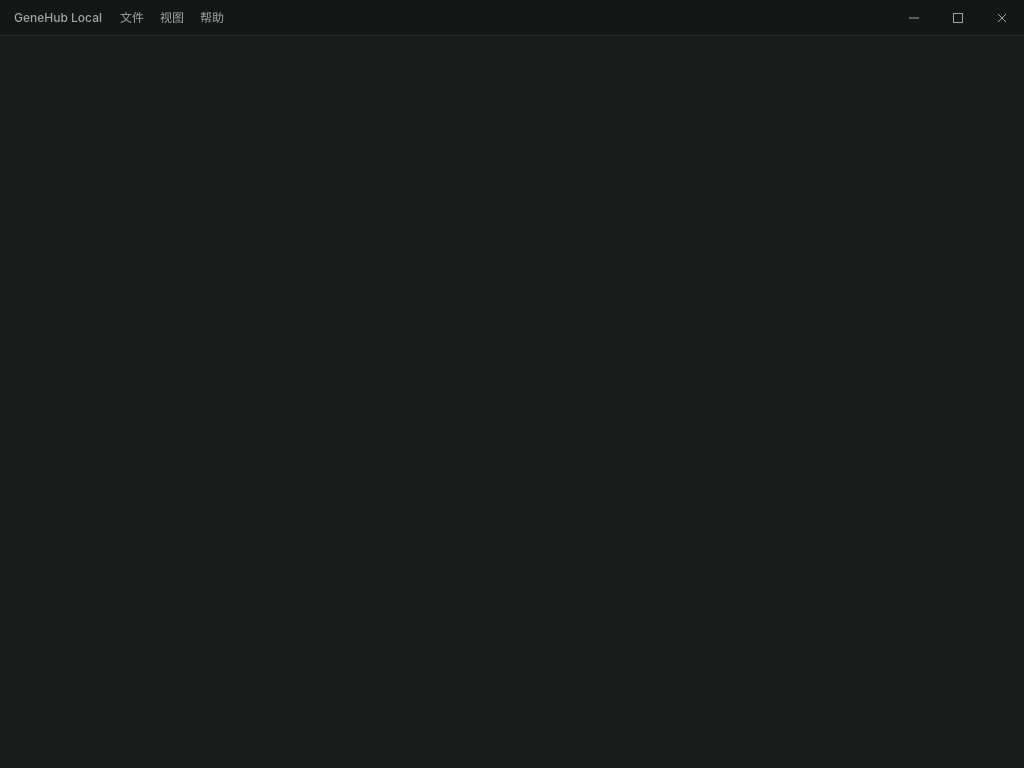
Test case: the strip along the top › does not offer the local folder picker while connected to a remote machine
Click the menu item "文件" at (132, 18), box [112,6,152,30]
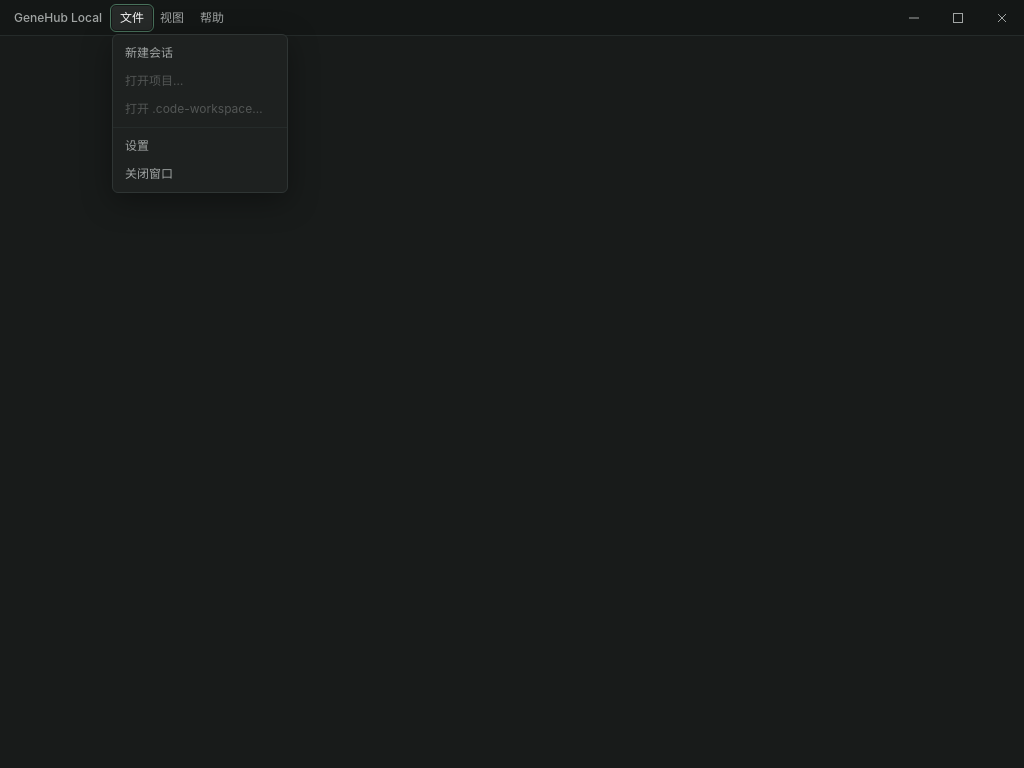
Now the menu item "打开项目…" is disabled, box [113,66,287,94]
